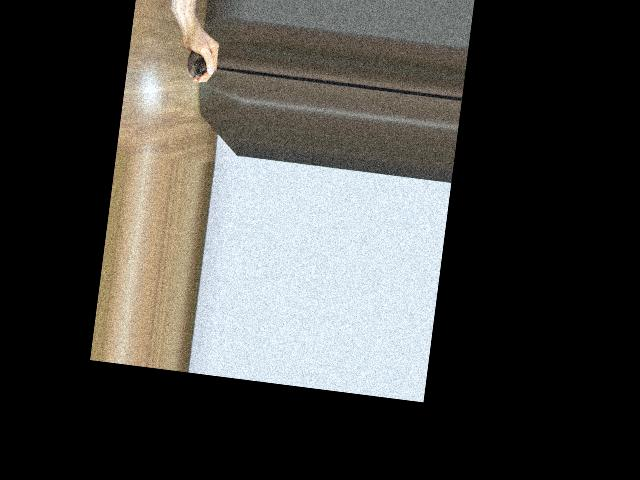beet: (185, 50, 227, 82)
